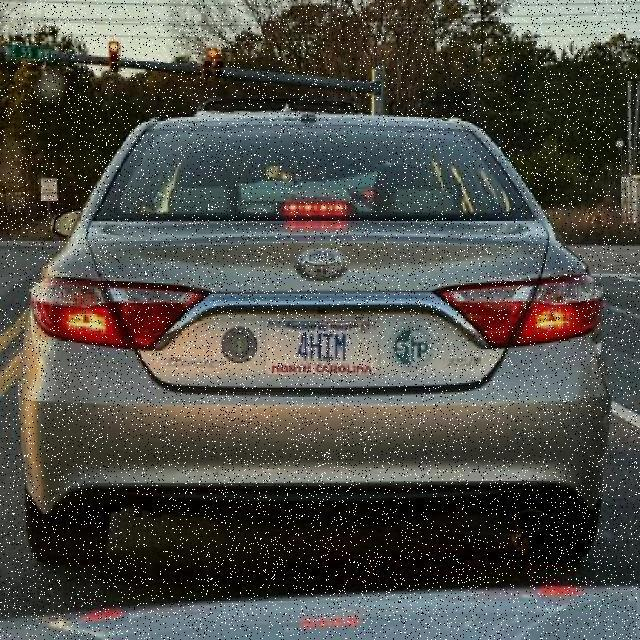LicensePlate: (263, 315, 378, 375)
